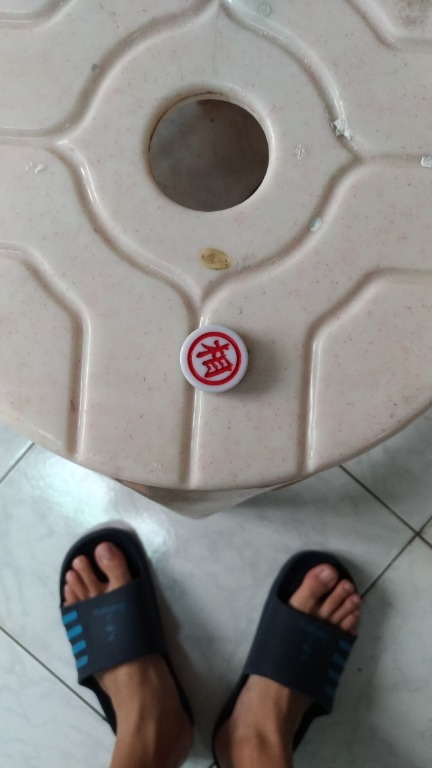r-elephant: (166, 319, 275, 409)
